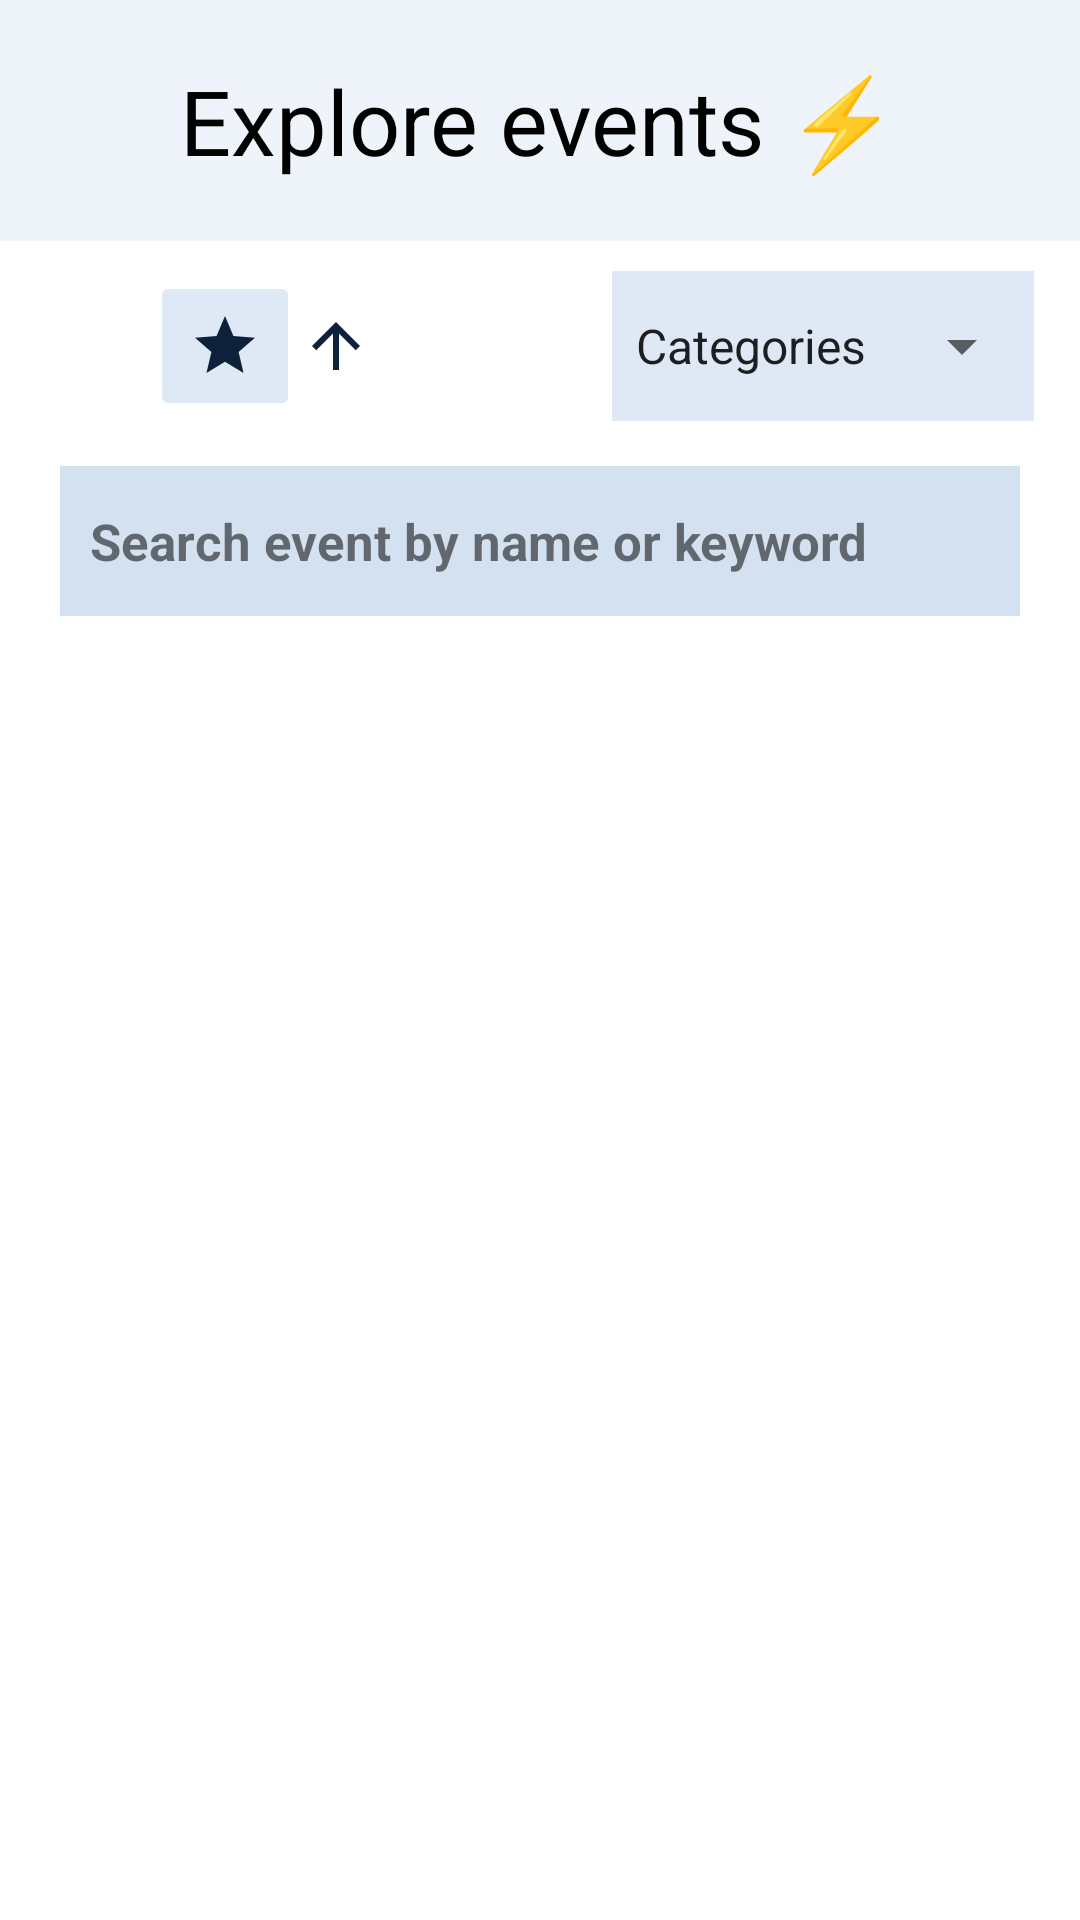

Icons on this 1080px x 1920px Android screen, each with the point to tap as [x,y]:
arrow upward: [336,346]
star: [225,346]
